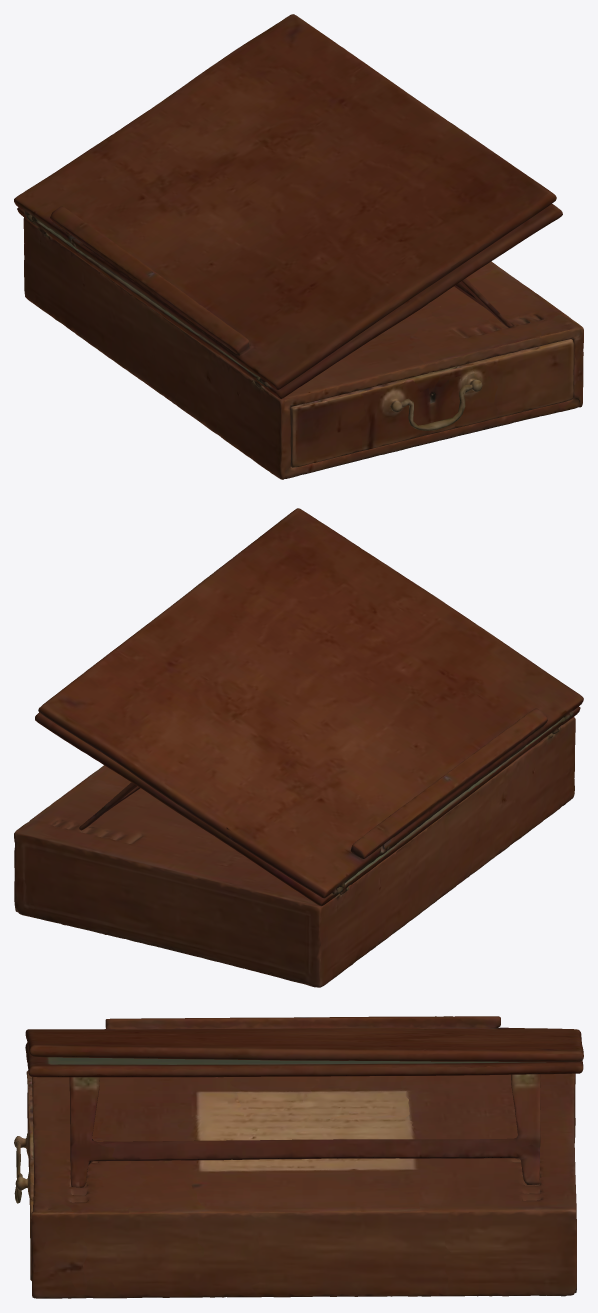
File: declaration_desk.glb
The picture shows the model from 3 angles, top to bottom: view 1: azimuth 30°, elevation 25°; view 2: azimuth 150°, elevation 25°; view 3: azimuth 270°, elevation 25°; orthographic projection. The views are drawn at different scales.
Visible parts, largest first — view 1: multi-mesh-100k; view 2: multi-mesh-100k; view 3: multi-mesh-100k.
Boxes of the visible parts, left/top/right/bottom form: multi-mesh-100k: left=14, top=14, right=583, bottom=479; multi-mesh-100k: left=14, top=508, right=583, bottom=987; multi-mesh-100k: left=14, top=1016, right=583, bottom=1298.
Bounding box in the file's own units: 0.259 × 0.1754 × 0.3782.
1 material, 1 textured.
